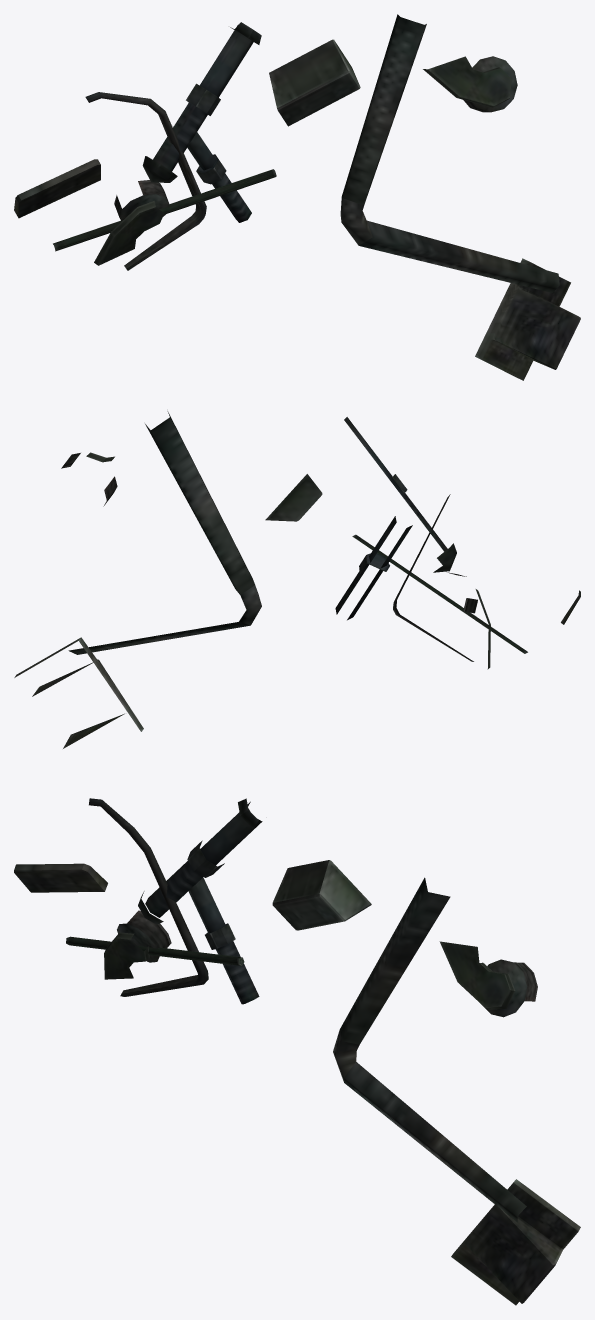
File: vehicle_uni_carrier_burned_prop1.glb
3 renders of one model, top to bottom at view 1: azimuth 30°, elevation 25°; view 2: azimuth 150°, elevation 25°; view 3: azimuth 330°, elevation 25°, orthographic. The views are drawn at different scales.
Bounding box in the file's own units: 85.25 × 61.79 × 12.21.
Materials: 1 (1 with a texture image).
